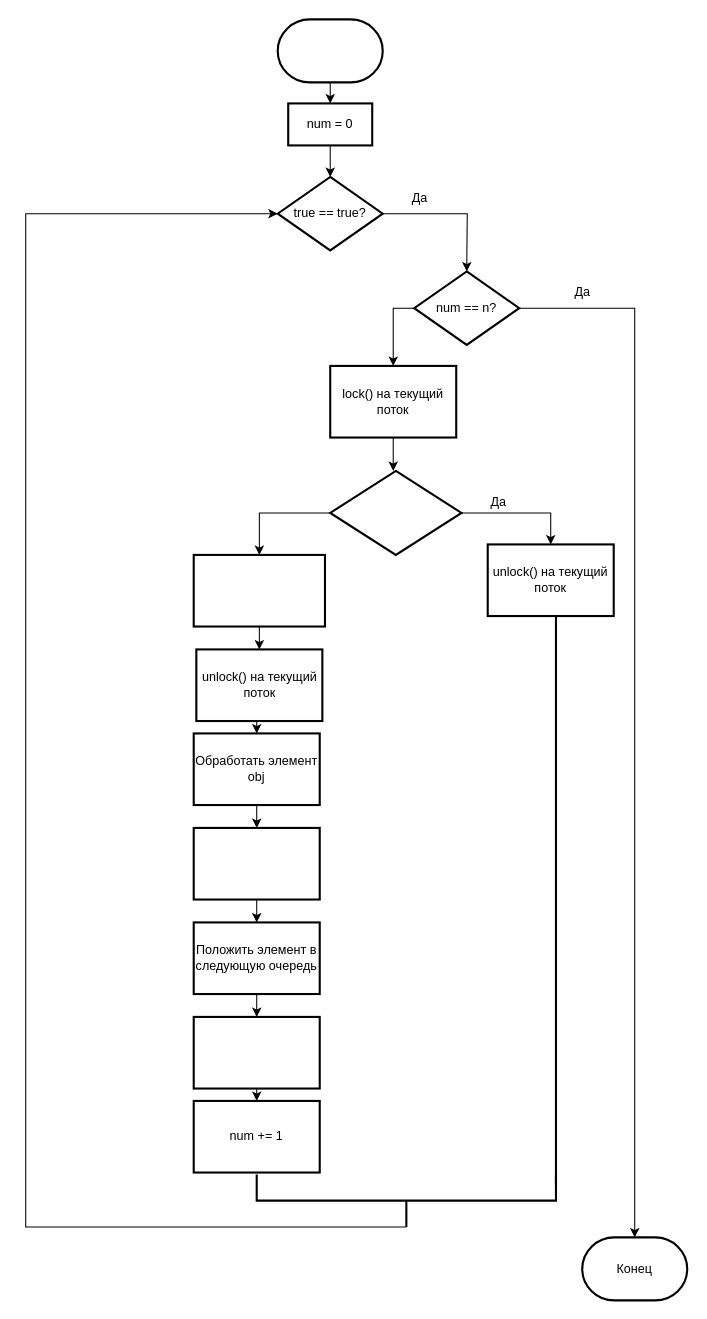
The diagram is 707 pixels wide and 1319 high, and some of its shapes have lost their labels. Each missing label, with the centre of its shape:
"lock() на следующий поток" belongs at (x=256, y=863).
"unlock() на следующий поток" belongs at (x=256, y=1052).
"Извлечь элемент obj из очереди" belongs at (x=259, y=590).
"Начало" belongs at (x=329, y=50).
"Очередь пустая?" belongs at (x=395, y=512).
